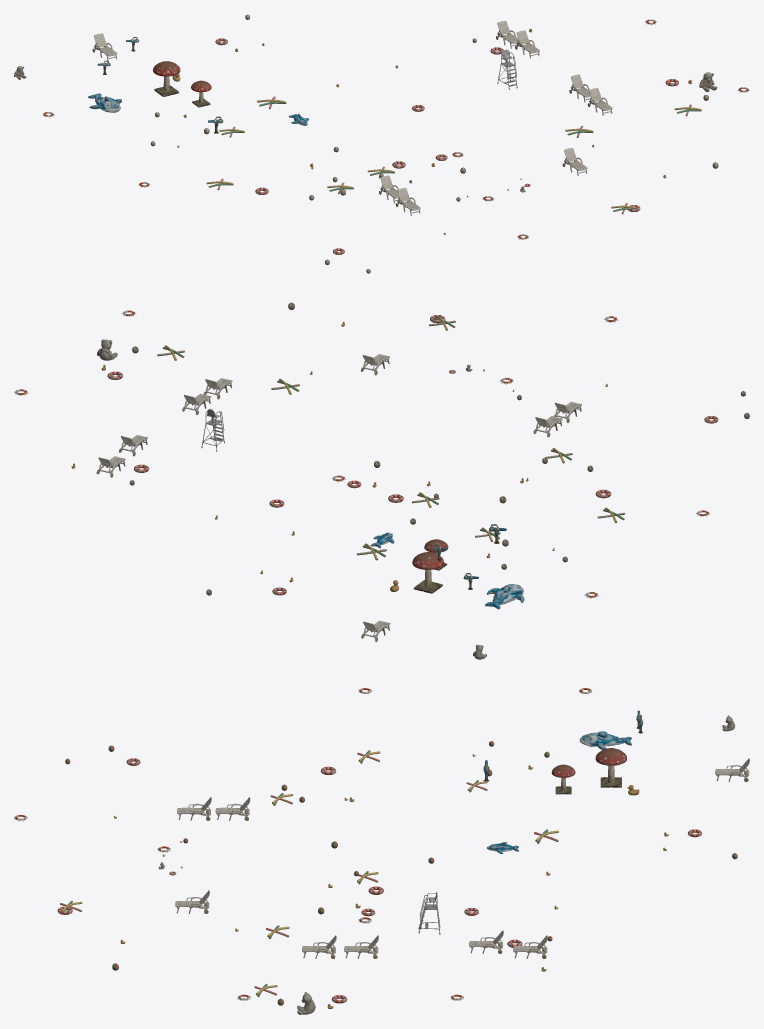
Rendered from sala_oggetti.glb.
The picture shows the model from 3 angles, top to bottom: view 1: azimuth 30°, elevation 25°; view 2: azimuth 150°, elevation 25°; view 3: azimuth 270°, elevation 25°; orthographic projection. The views are drawn at different scales.
Parts seen in each view (by area): view 1: ogg_fungo_fontana_27; view 2: ogg_fungo_fontana_27, ogg_balena_gonfiabile_sgonfia_26; view 3: ogg_fungo_fontana_27, ogg_balena_gonfiabile_sgonfia_26.
Boxes of the visible parts, left/top/right/bottom form: ogg_fungo_fontana_27: left=153, top=61, right=180, bottom=96; ogg_fungo_fontana_27: left=412, top=552, right=444, bottom=593; ogg_balena_gonfiabile_sgonfia_26: left=485, top=584, right=524, bottom=609; ogg_fungo_fontana_27: left=595, top=748, right=626, bottom=787; ogg_balena_gonfiabile_sgonfia_26: left=579, top=731, right=631, bottom=749.
Size of what is drawn, in the model's own units: 40.25 by 5.74 by 40.07.
12 materials, 12 textured.
